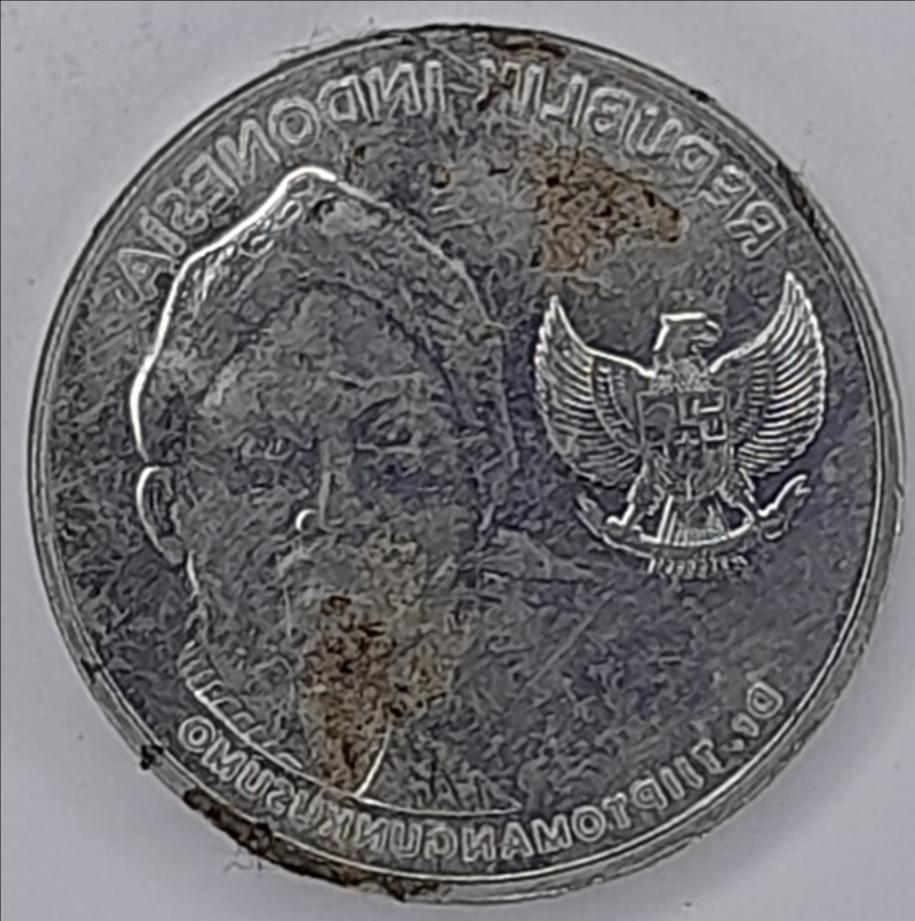coin_200_e2016: (0, 16, 915, 921)
